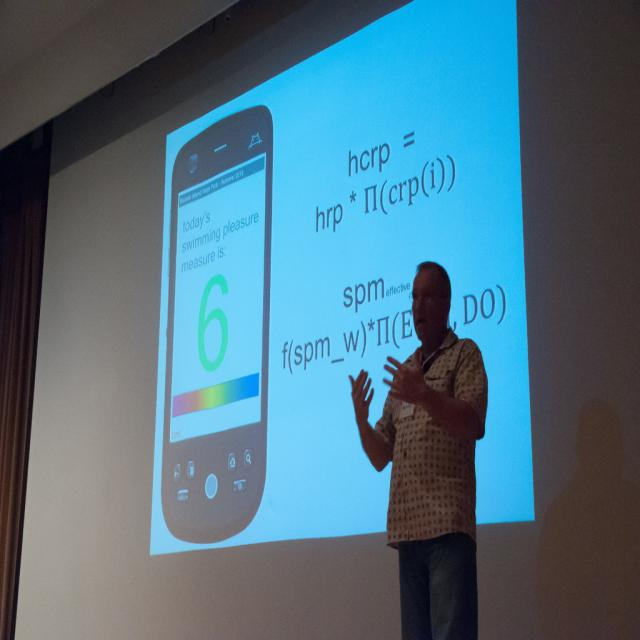Mobile-phone: (152, 99, 279, 561)
